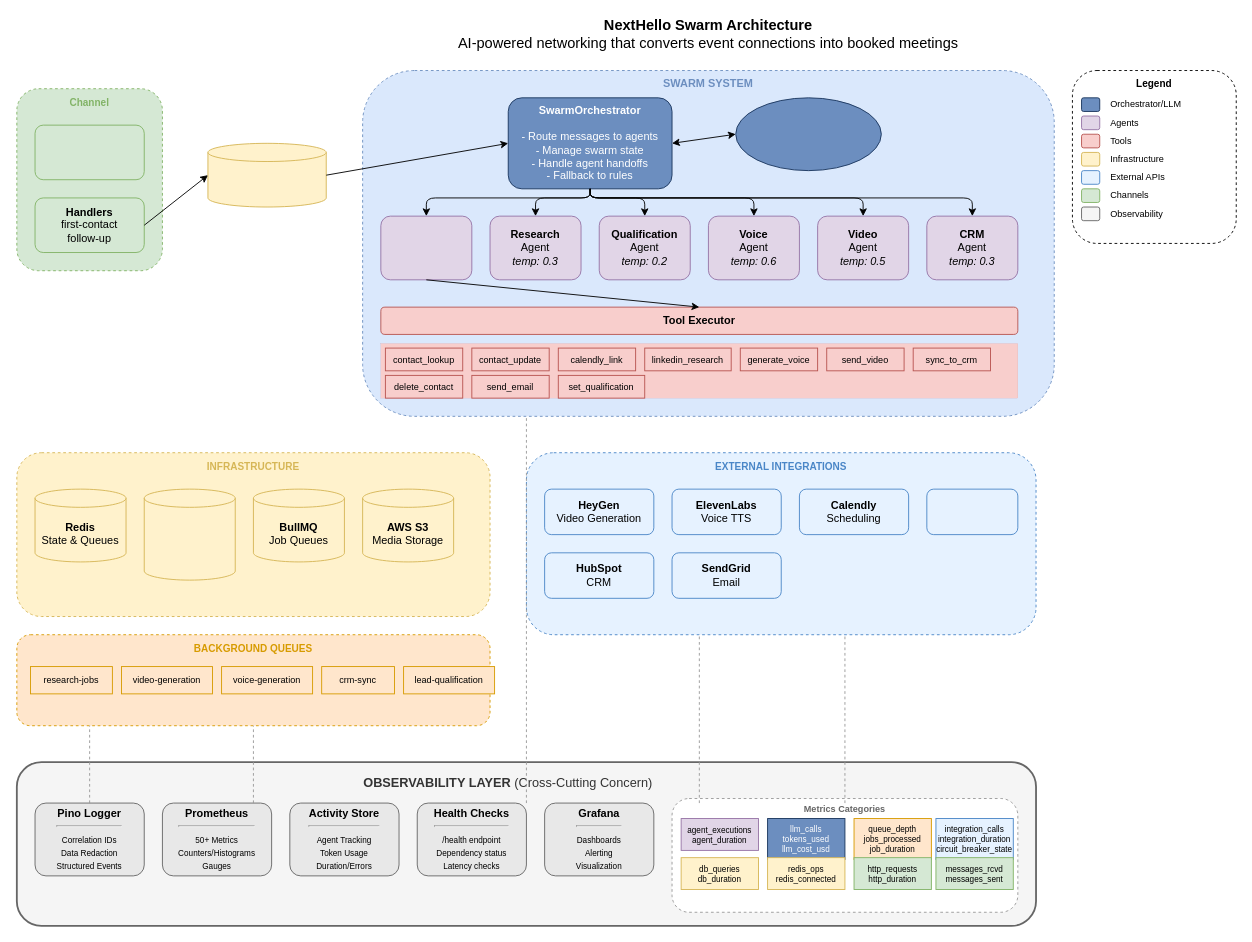
The diagram is 1252 pixels wide and 942 high, and some of its shapes have lost their labels. The shapes that lost their labels are listed below. From the top down, each one's box as (x1, y1, x2, y2) in pixels, then its label:
(34, 124, 144, 180): WhatsApp (Baileys)
(735, 97, 881, 171): Anthropic Claude claude-sonnet-4-20250514
(207, 142, 326, 207): incoming-messages BullMQ Queue
(380, 215, 472, 280): Conversation Agent temp: 0.7
(926, 488, 1018, 535): LinkedIn (ProxyCurl)
(143, 488, 235, 580): PostgreSQL Contacts Messages Activity Log
